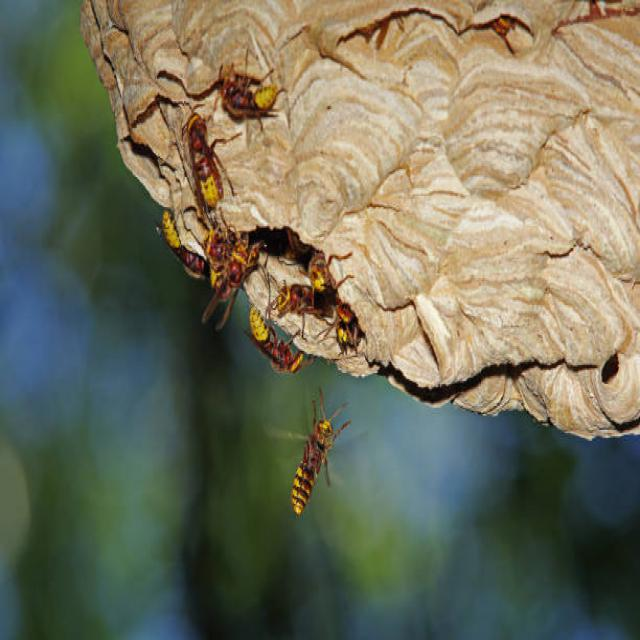Vespa Crabro: (277, 383, 357, 520), (174, 108, 235, 212), (214, 46, 294, 120), (151, 200, 220, 284), (245, 294, 311, 377), (299, 226, 362, 299), (210, 224, 255, 325)
